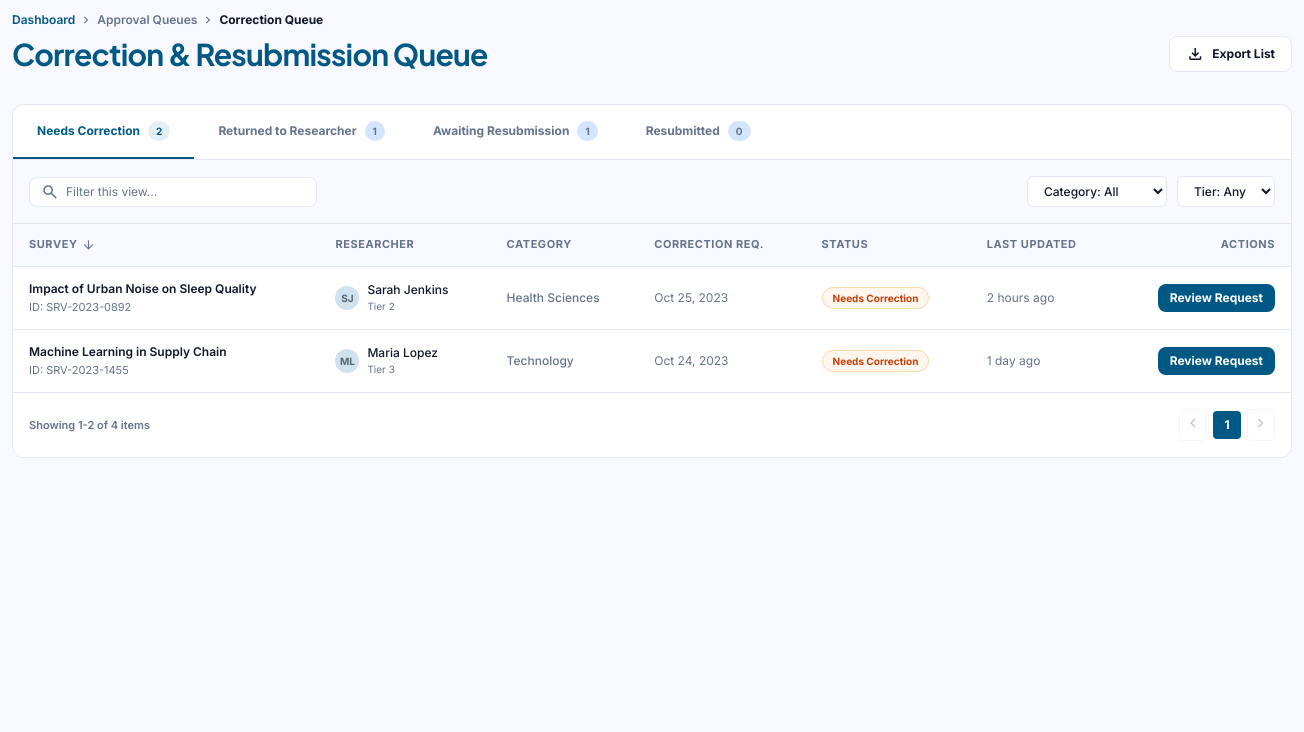
Test: Ethosk - Returned / Correction Queue (Stitch Screen deab2b40fd78484db04a418c941de186) › switches tabs and displays corresponding items or empty state
// Switch to Awaiting Resubmission
Click the button "Awaiting Resubmission 1".
click(515, 132)  # box top-left (409, 105), bottom-right (622, 159)
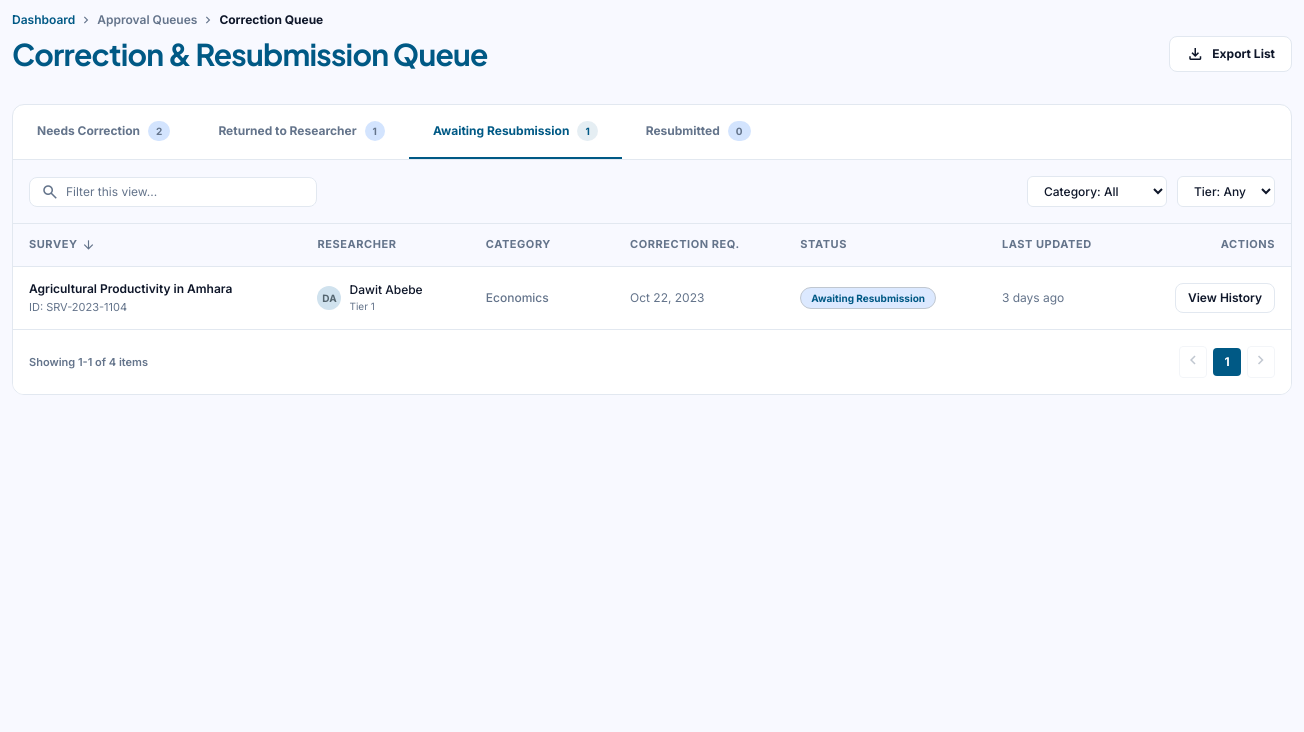
Now the text "Agricultural Productivity in Amhara" is shown, box top-left (29, 281), bottom-right (232, 296)
Now the text "ID: SRV-2023-1104" is shown, box top-left (29, 300), bottom-right (127, 314)
Now the text "Dawit Abebe" is shown, box top-left (350, 282), bottom-right (423, 298)
// Switch to Resubmitted (Empty State)
Click the button "Resubmitted 0".
click(698, 132)  # box top-left (622, 105), bottom-right (775, 159)
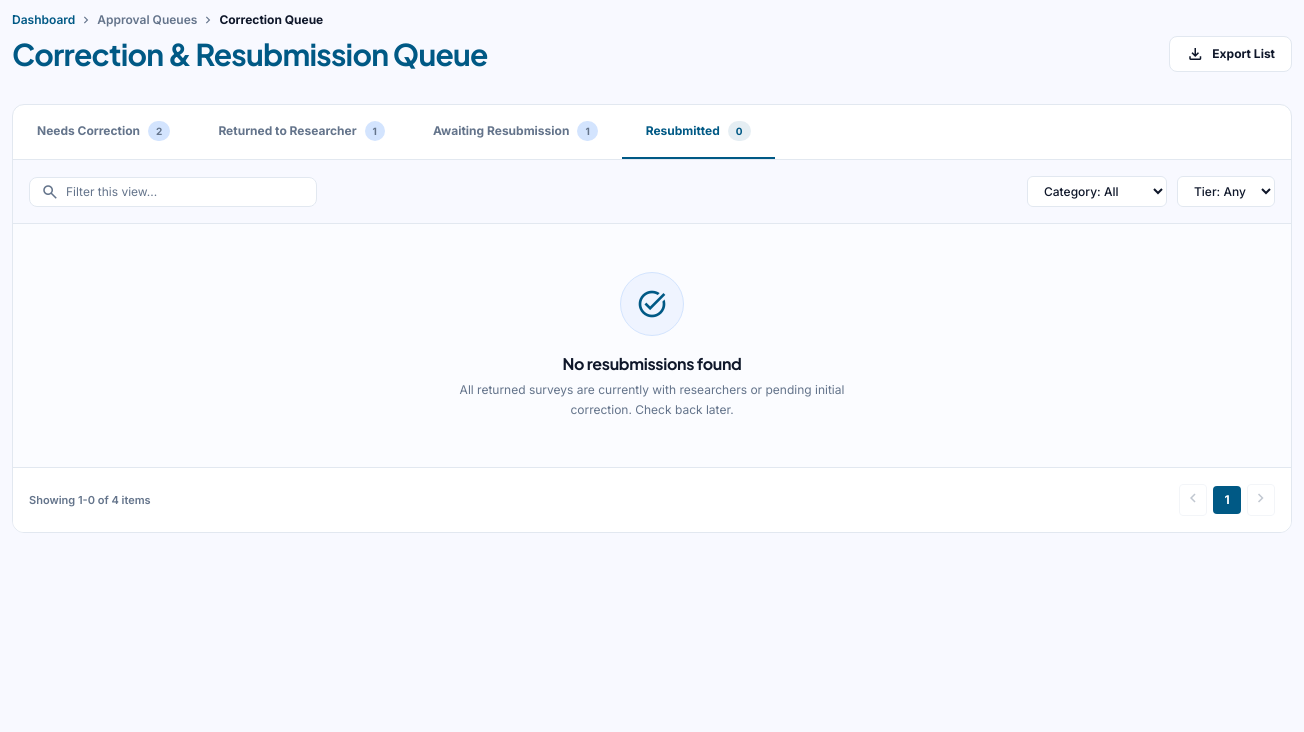
Now the heading "No resubmissions found" is shown, box top-left (562, 352), bottom-right (742, 376)
Now the text "All returned surveys are currently with researchers or pending initial correction. Check back later." is shown, box top-left (460, 382), bottom-right (844, 416)
